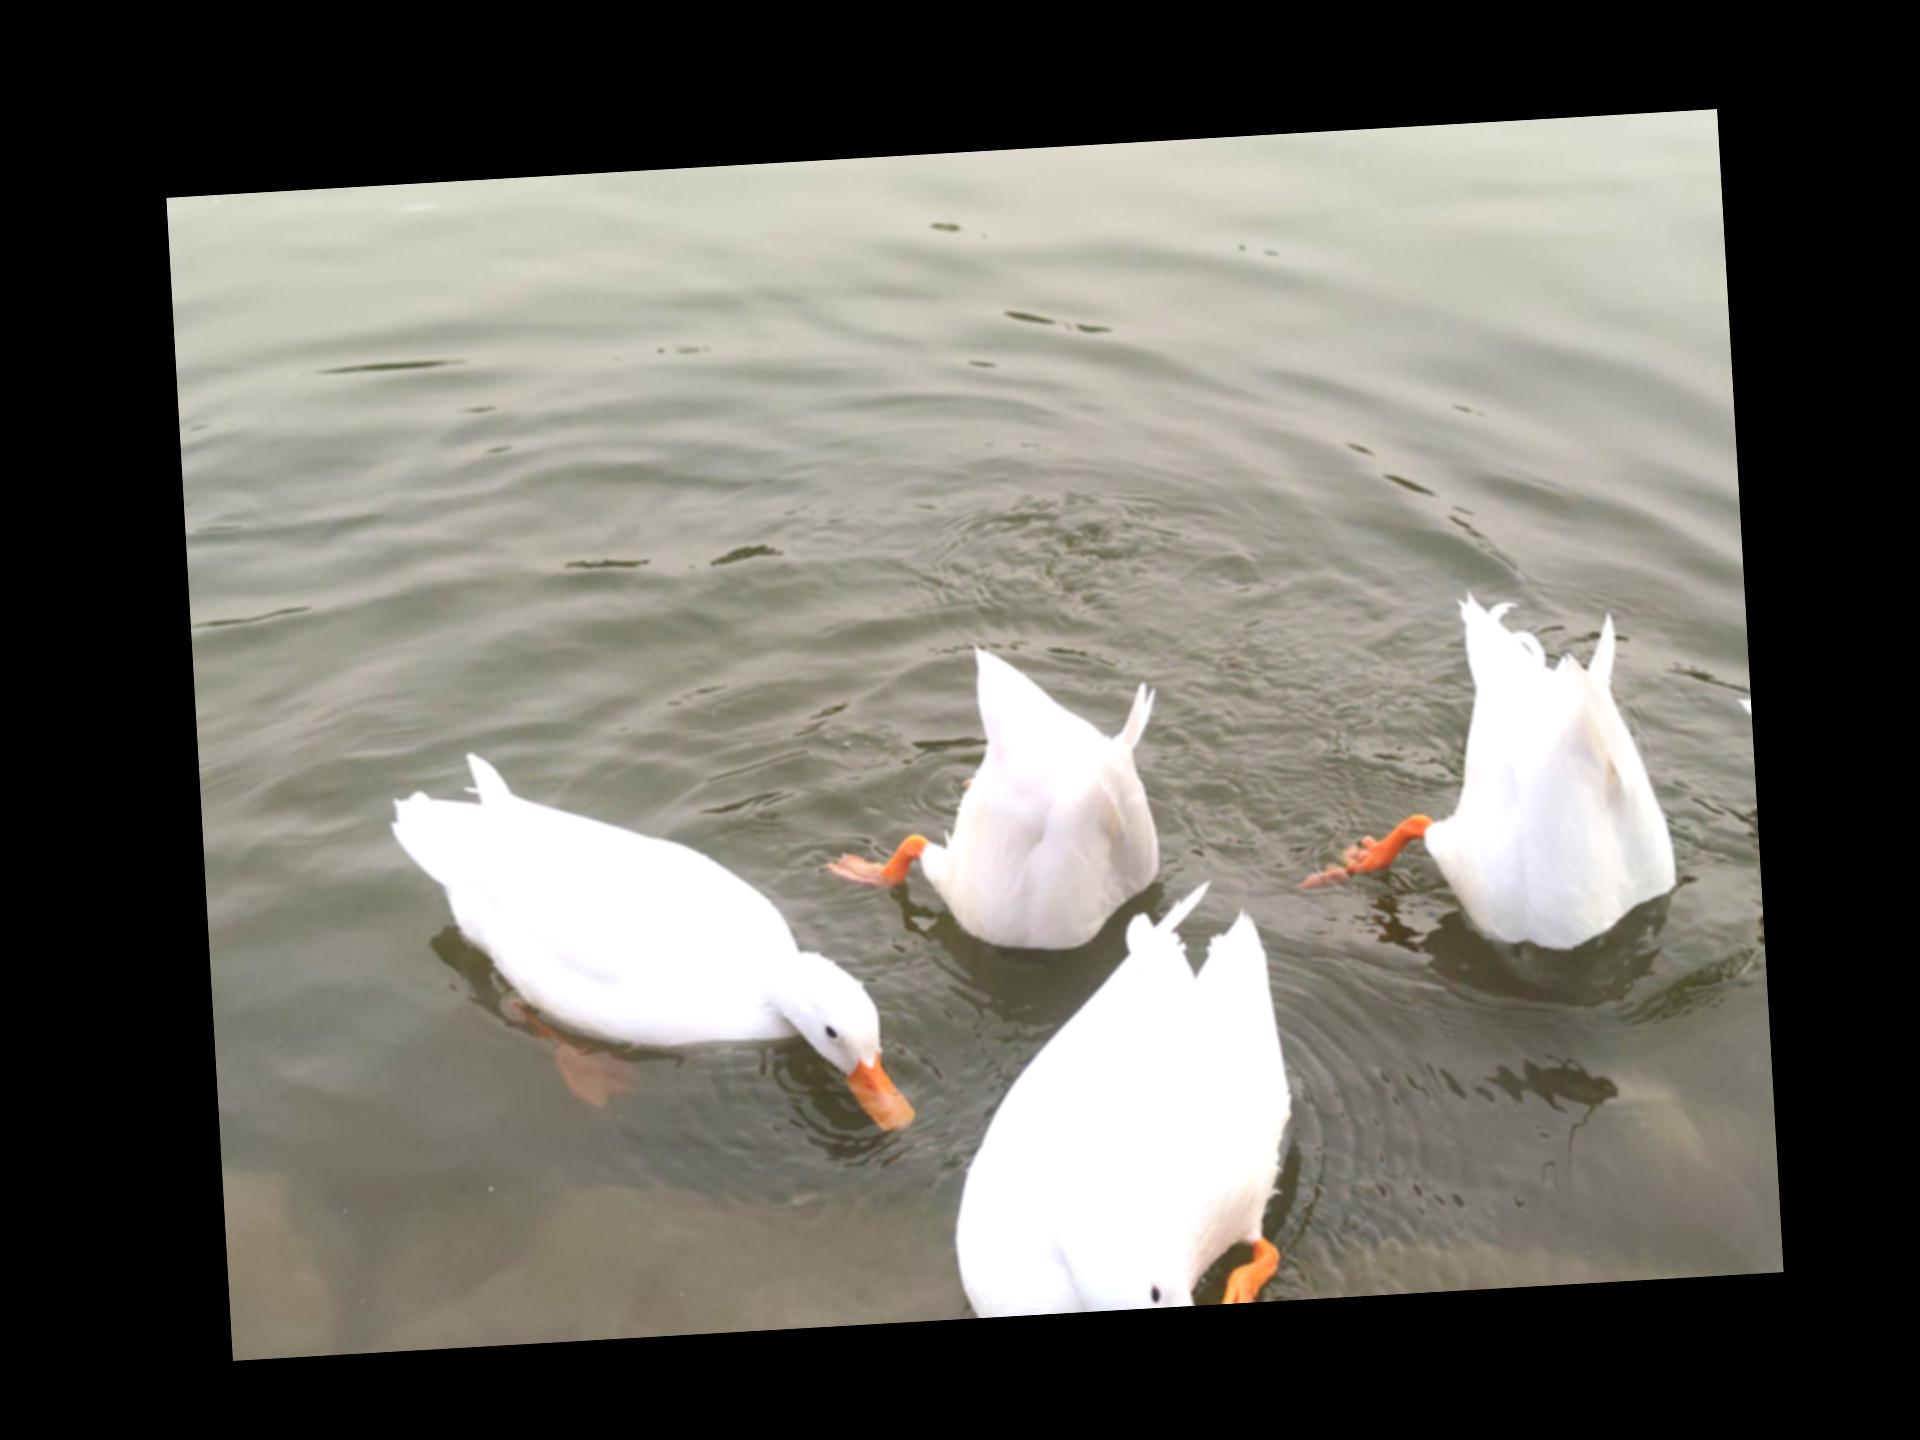duck: (363, 712, 927, 1178), (900, 858, 1324, 1321), (1268, 558, 1680, 971), (800, 610, 1205, 971)
